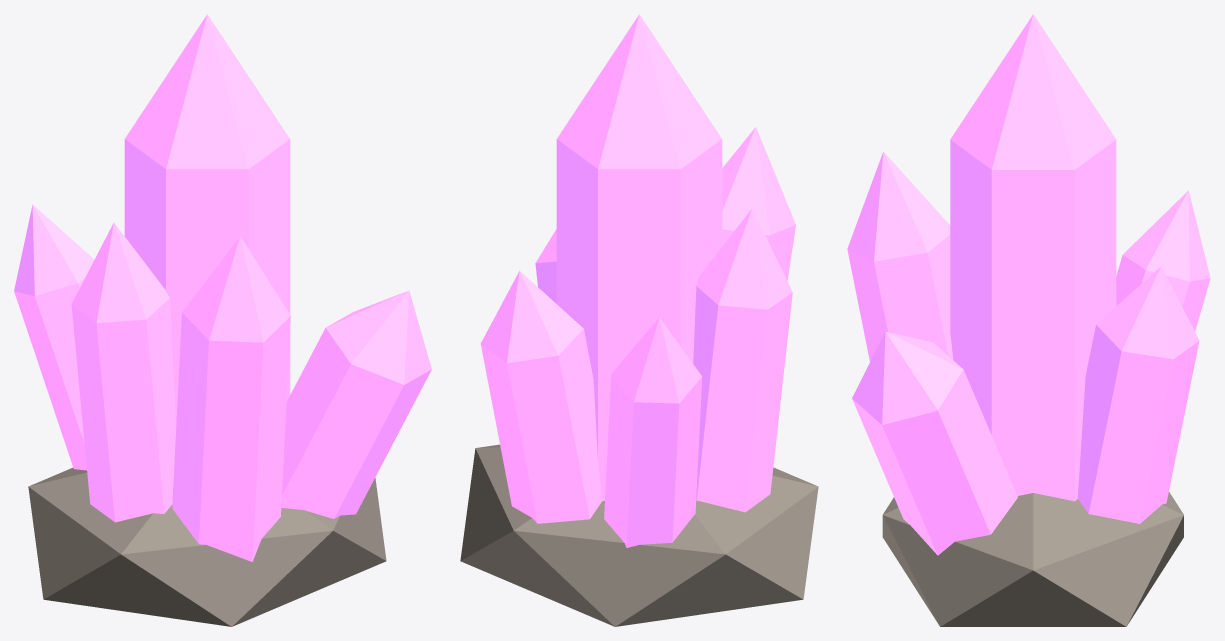
File: crystal.glb
The picture shows the model from 3 angles, left to right: view 1: azimuth 30°, elevation 25°; view 2: azimuth 150°, elevation 25°; view 3: azimuth 270°, elevation 25°; orthographic projection.
Visible parts, largest first — view 1: crystal; view 2: crystal; view 3: crystal.
Part boxes in pixels (box(x1,y1,x2,y2)): crystal: box(14, 14, 431, 626); crystal: box(460, 14, 818, 626); crystal: box(847, 14, 1210, 626).
Bounding box in the file's own units: 0.6869 × 1.18 × 0.656.
